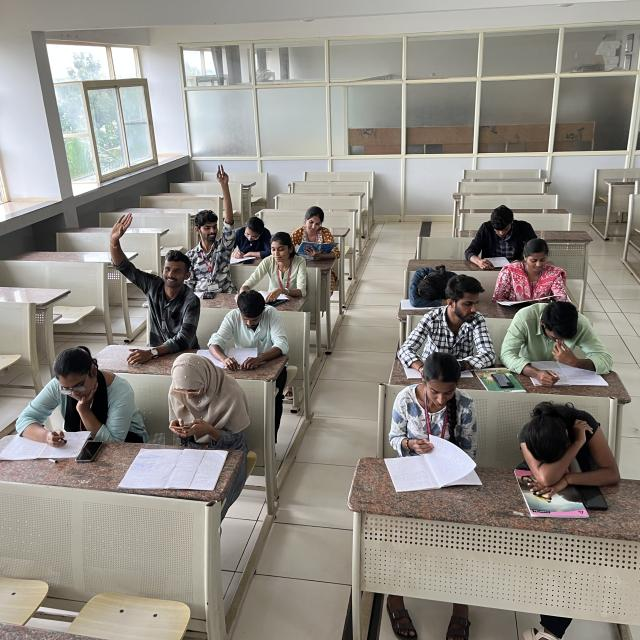Hand Rising: (108, 210, 198, 342), (189, 164, 236, 273)
Reading: (390, 353, 480, 478), (510, 303, 610, 380), (495, 241, 572, 305), (462, 204, 535, 264), (219, 290, 277, 361), (293, 206, 338, 261)
Sleeping: (516, 401, 624, 482), (404, 264, 458, 310)
Using Phone: (161, 355, 245, 446)
Writing: (6, 342, 121, 448), (232, 232, 300, 300), (227, 217, 272, 260)
